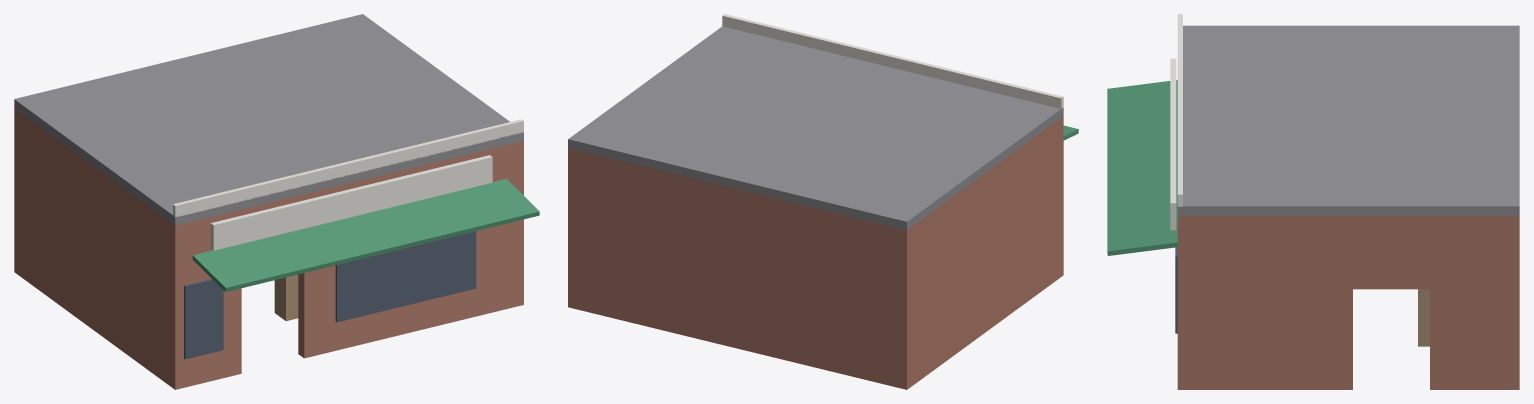
Rendered from CornerStore.glb.
3 renders of one model, left to right at view 1: azimuth 30°, elevation 25°; view 2: azimuth 150°, elevation 25°; view 3: azimuth 270°, elevation 25°, orthographic. The views are drawn at different scales.
Visible parts, largest first — view 1: CornerStore; view 2: CornerStore; view 3: CornerStore.
Boxes of the visible parts, x1,y1,x2,y2 form: CornerStore: (14,14,539,389); CornerStore: (568,14,1078,389); CornerStore: (1107,14,1519,389).
Size of the model in its own units: 10 by 5.04 by 9.65.
